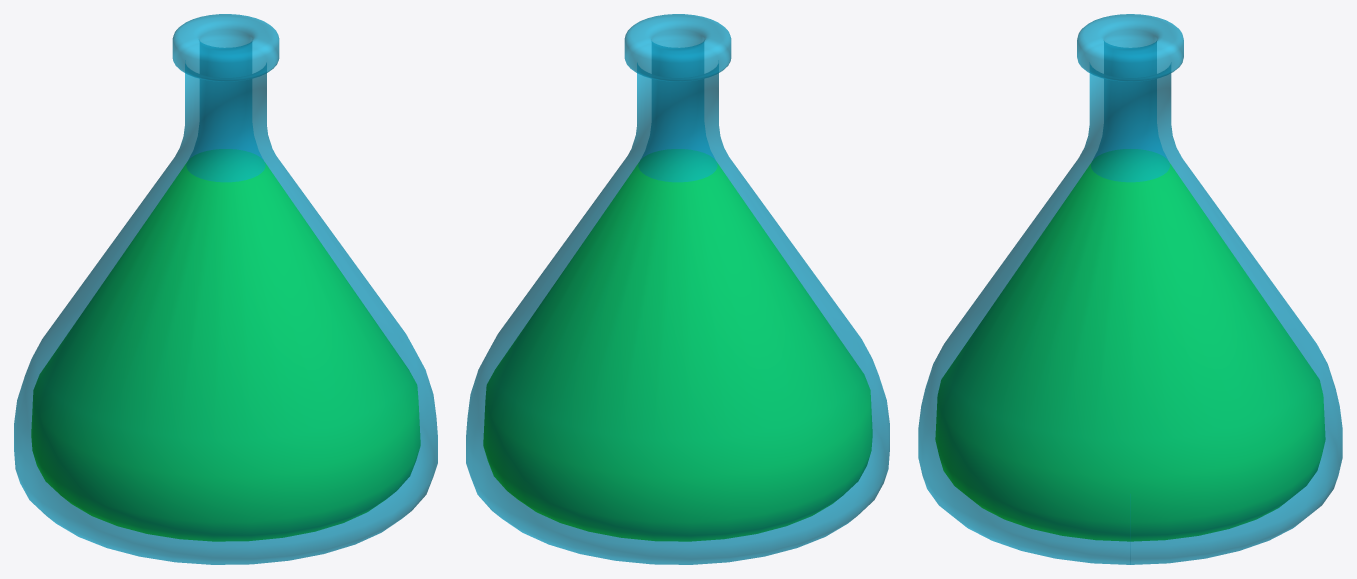
File: Potion01.fbx
3 views of the same model, side by side, from view 1: azimuth 30°, elevation 25°; view 2: azimuth 150°, elevation 25°; view 3: azimuth 270°, elevation 25° (orthographic).
Parts seen in each view (by area): view 1: Cone; view 2: Cone; view 3: Cone.
Part boxes in pixels (box(x1,y1,x2,y2)): Cone: box(14, 14, 437, 564); Cone: box(466, 14, 889, 564); Cone: box(918, 14, 1342, 564).
Bounding box in the file's own units: 200 × 236 × 200.
